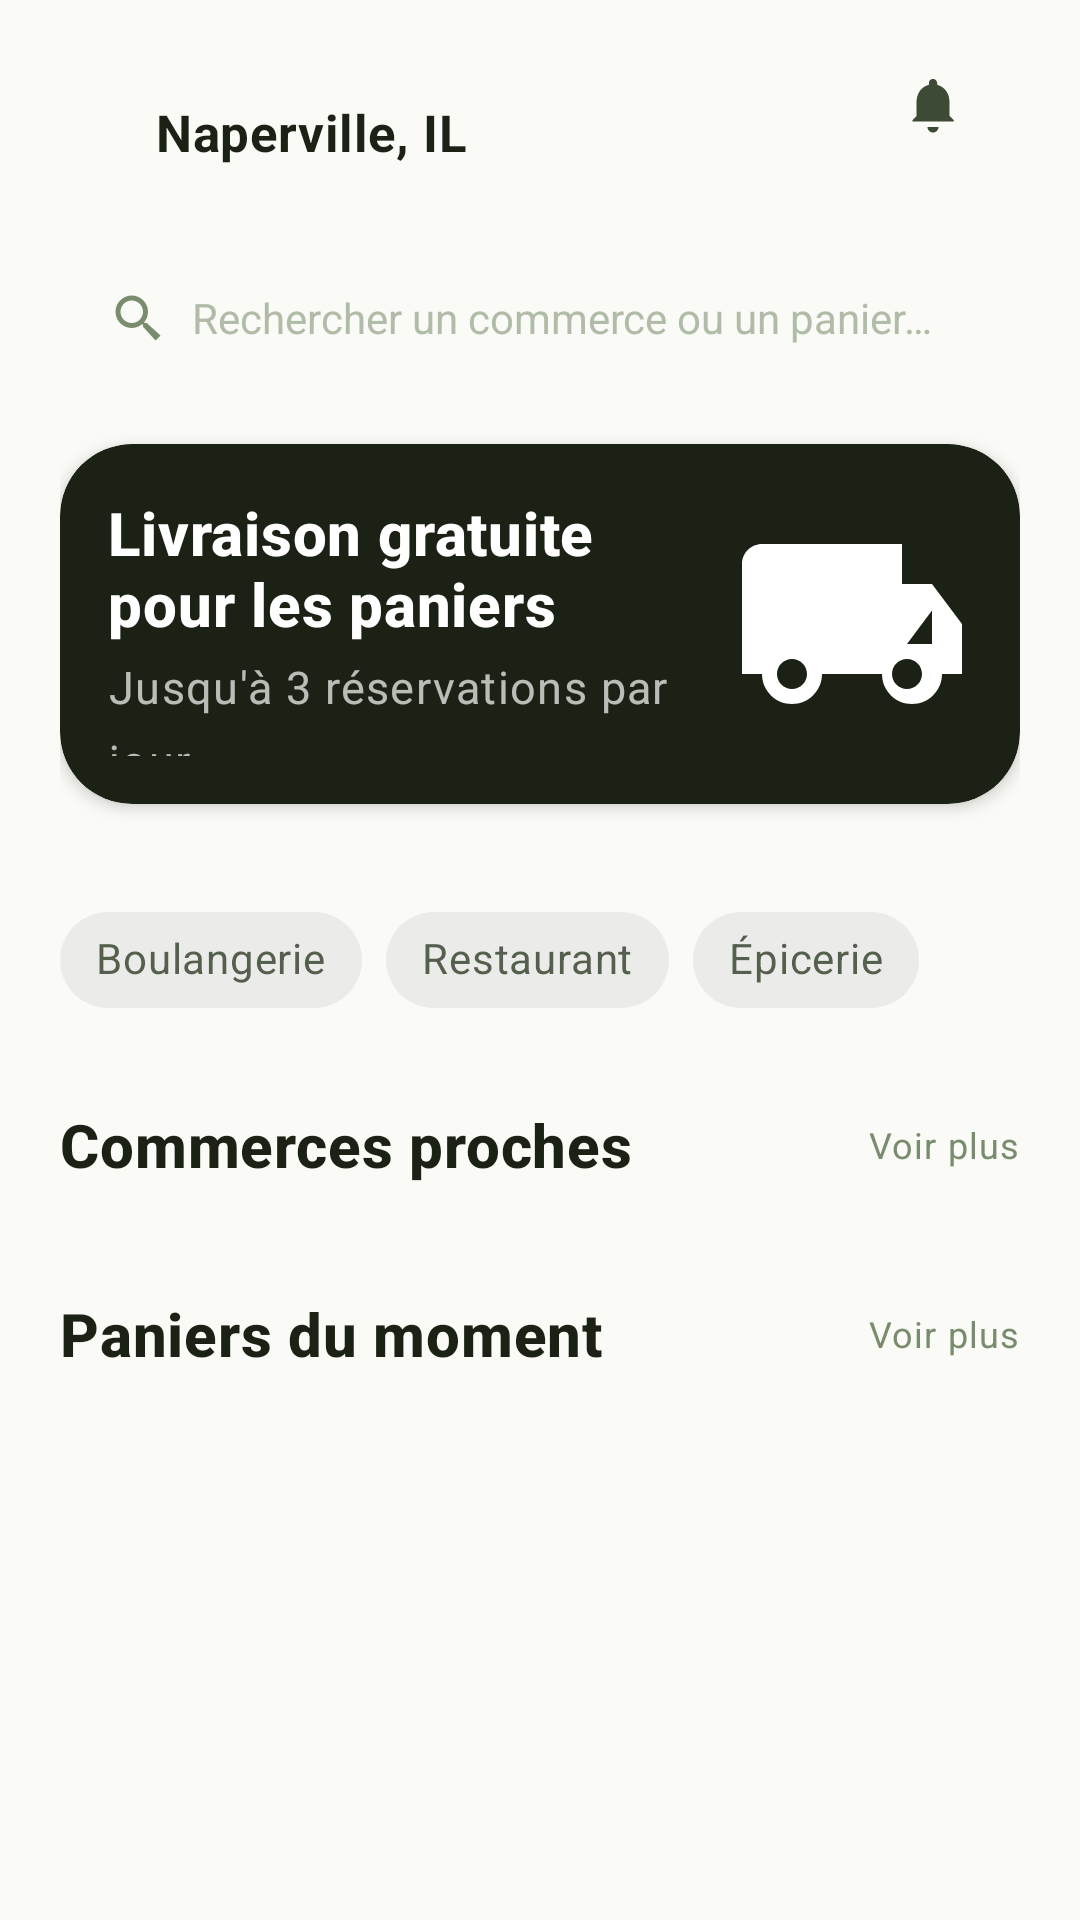

Icon bounding boxes for this 1080px x 1920px phone screenshot, format (x1, y1, x2, y2):
notifications rounded: (912, 79, 954, 133)
search rounded: (115, 295, 161, 341)
